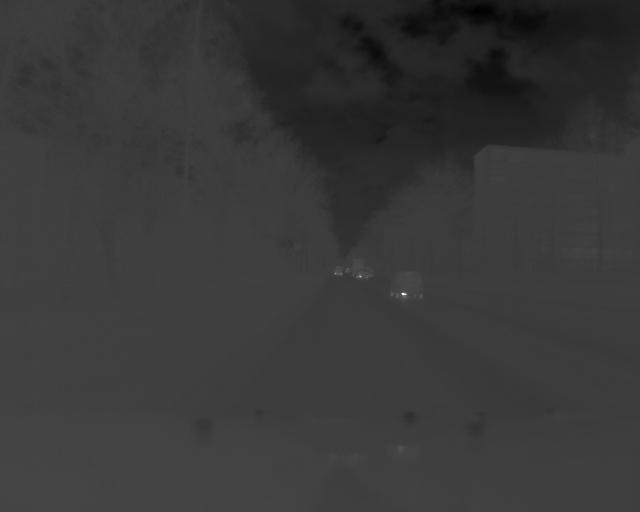car: (389, 269, 427, 304)
